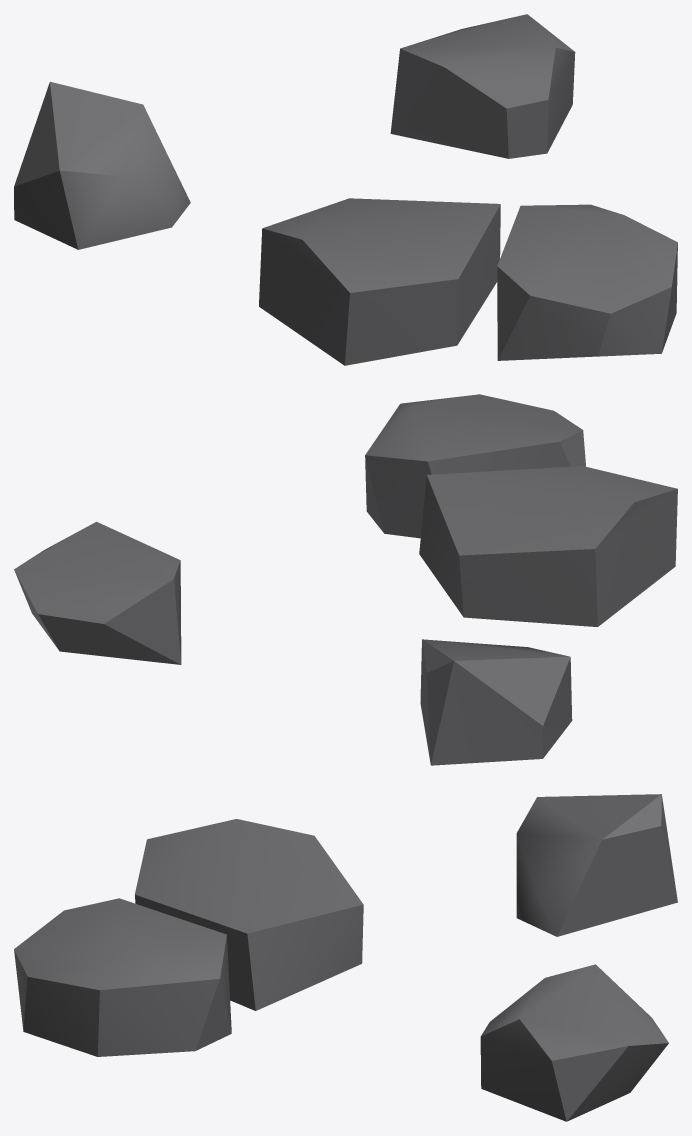
File: Stone_09.fbx
3 renders of one model, top to bottom at view 1: azimuth 30°, elevation 25°; view 2: azimuth 150°, elevation 25°; view 3: azimuth 270°, elevation 25°, orthographic. The views are drawn at different scales.
Visible parts, largest first — view 1: Stone_09; view 2: Stone_09; view 3: Stone_09.
Boxes of the visible parts, box(x1,y1,x2,y2) form: Stone_09: box(14, 14, 677, 365); Stone_09: box(14, 394, 677, 765); Stone_09: box(14, 794, 677, 1121).
Size of the model in its own units: 198 by 36.43 by 217.
